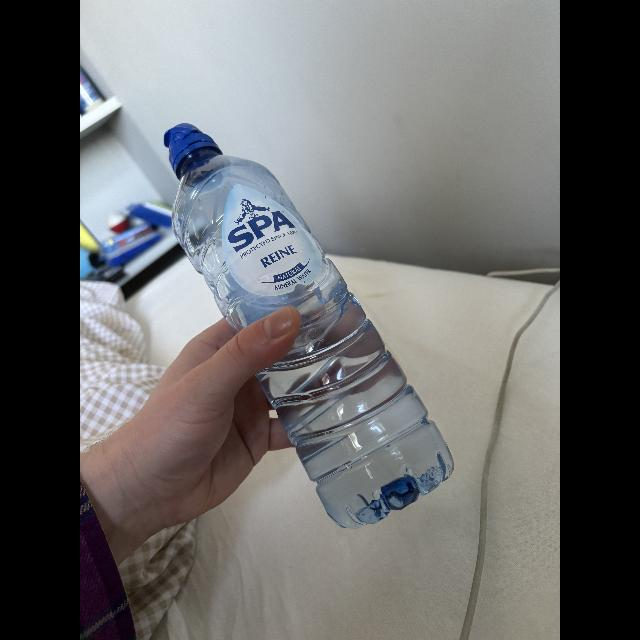Plastic: (152, 115, 458, 530)
